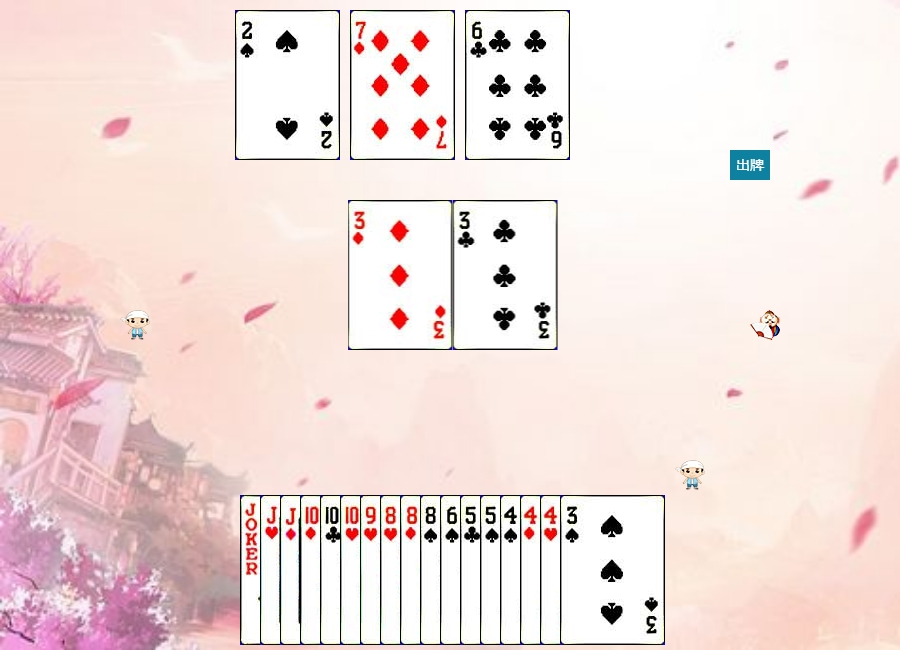10~1: (300, 495, 405, 645)
10~2: (320, 495, 425, 645)
10~3: (340, 495, 445, 645)
11~1: (280, 495, 385, 645)
11~3: (260, 495, 365, 645)
15~4: (235, 10, 340, 160)
18~4: (240, 495, 345, 645)
3~1: (348, 200, 453, 350)
3~2: (453, 200, 558, 350)
3~4: (560, 495, 665, 645)
4~1: (520, 495, 625, 645)
4~3: (540, 495, 645, 645)
4~4: (500, 495, 605, 645)
5~2: (460, 495, 565, 645)
5~4: (480, 495, 585, 645)
6~2: (465, 10, 570, 160)
6~4: (440, 495, 545, 645)
7~1: (350, 10, 455, 160)
8~1: (400, 495, 505, 645)
8~3: (380, 495, 485, 645)
8~4: (420, 495, 525, 645)
9~3: (360, 495, 465, 645)
